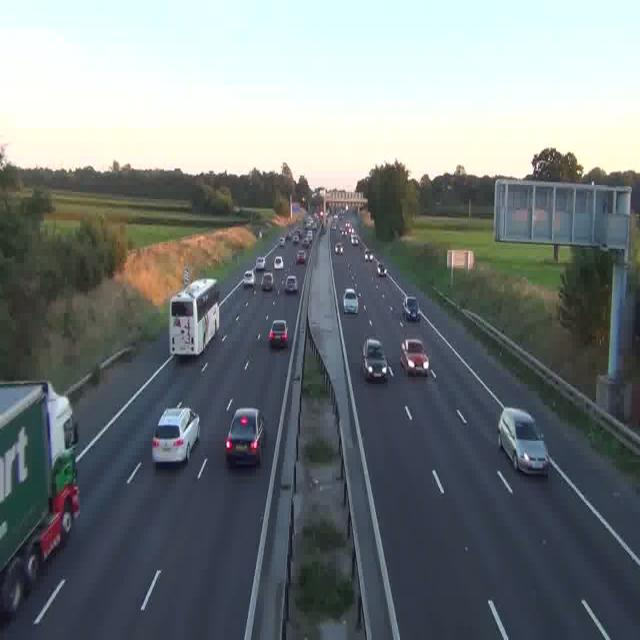bus: (170, 278, 220, 355)
car: (497, 408, 549, 476), (152, 405, 200, 464), (227, 406, 266, 467), (362, 338, 388, 381), (401, 337, 429, 374), (269, 321, 289, 348), (402, 294, 421, 321), (343, 288, 359, 314), (241, 269, 255, 288), (260, 272, 274, 291), (285, 275, 297, 294), (254, 256, 265, 271), (273, 255, 283, 270), (296, 250, 306, 264), (377, 262, 387, 276), (365, 248, 373, 260), (304, 236, 312, 248), (335, 242, 343, 253), (281, 234, 288, 245)
truck: (0, 379, 80, 622)
